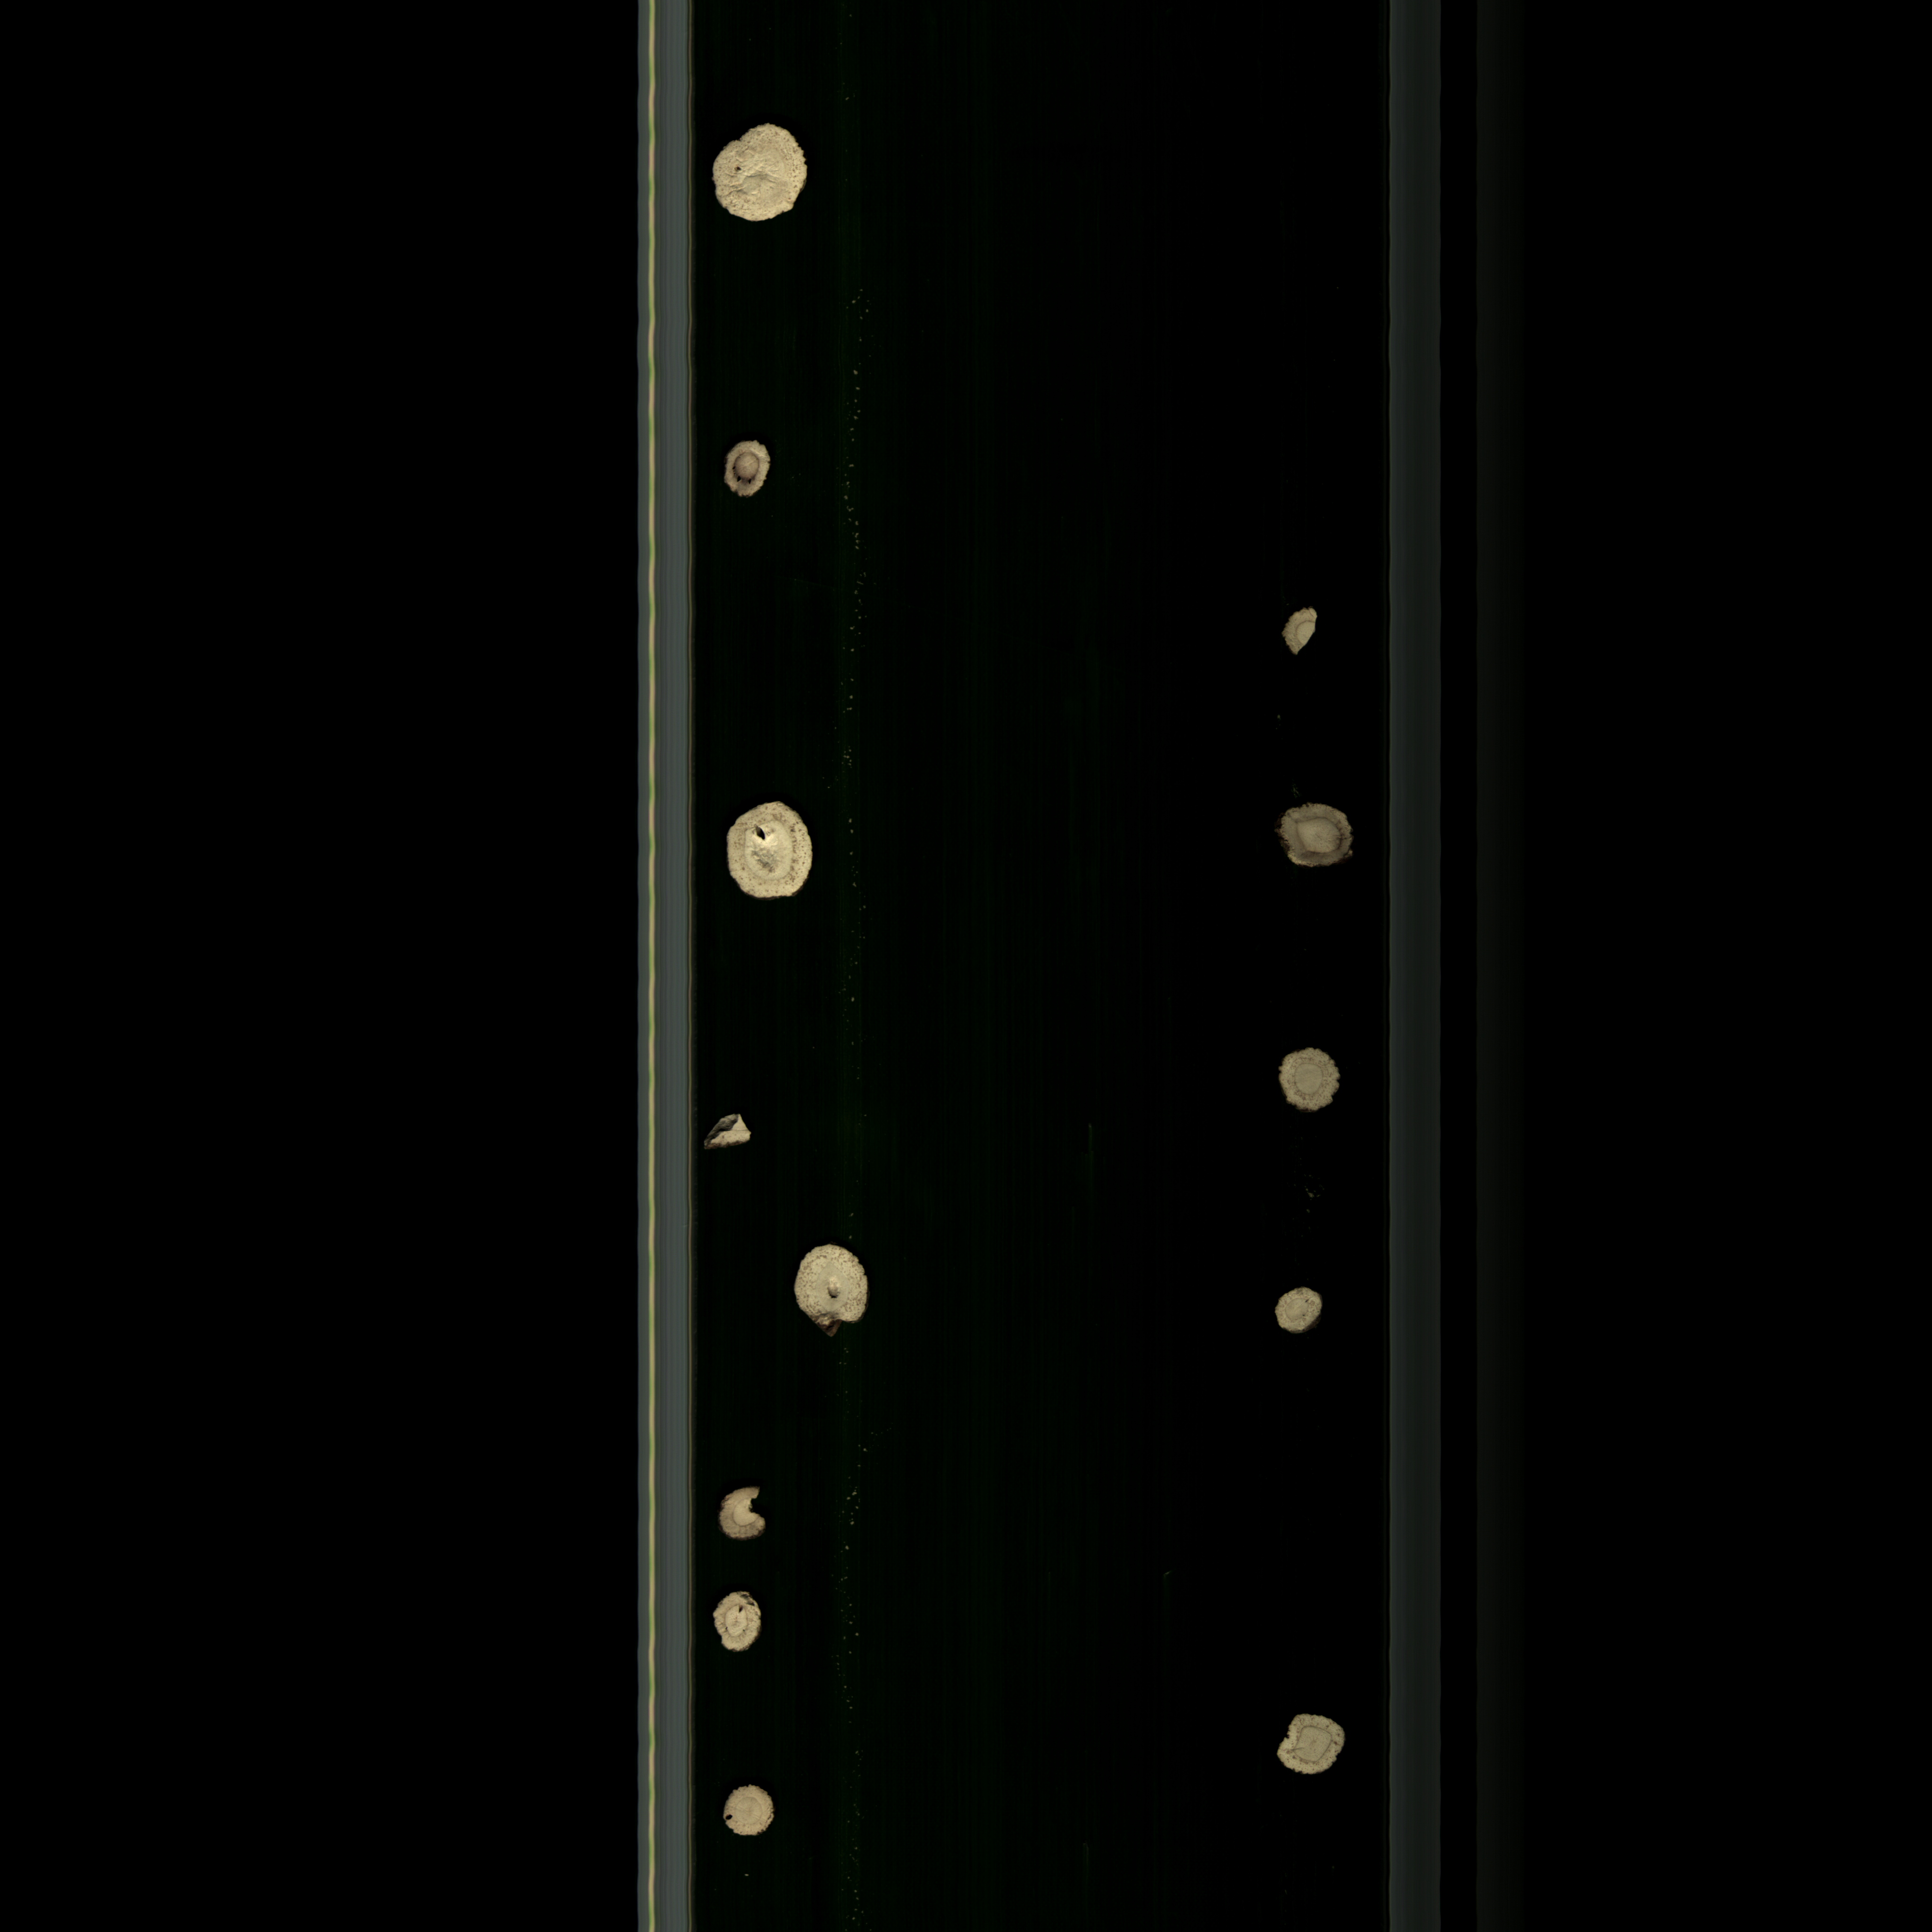debris: (713, 1486, 778, 1548)
distortion: (1269, 1707, 1353, 1785)
dreg: (1276, 602, 1329, 665), (701, 1111, 771, 1157)
hole: (706, 117, 821, 228), (773, 1238, 886, 1348), (717, 803, 826, 911), (717, 1773, 782, 1851), (708, 1585, 773, 1660)
moldy: (1277, 793, 1362, 879), (718, 428, 777, 501)
